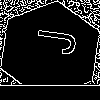J: (25, 25, 77, 57)
